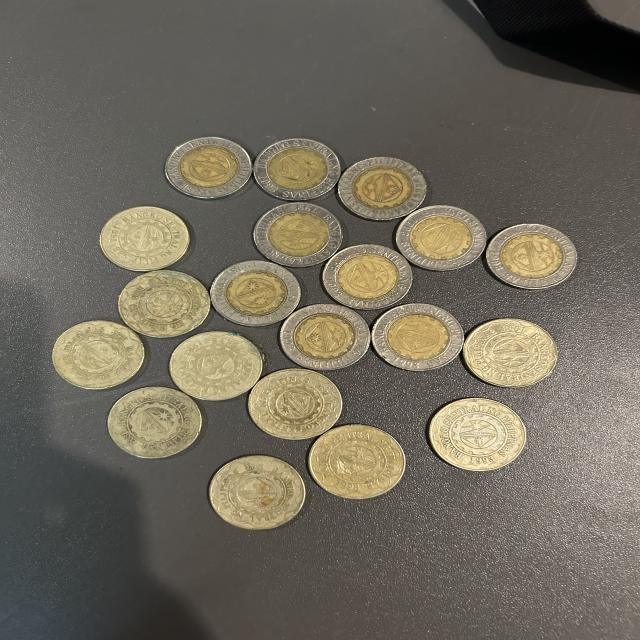10_Old_Back: (484, 218, 578, 292), (249, 202, 344, 269), (279, 303, 372, 368), (163, 135, 251, 199), (339, 156, 426, 219)
5_Old_Back: (428, 398, 526, 473), (463, 318, 559, 387)
